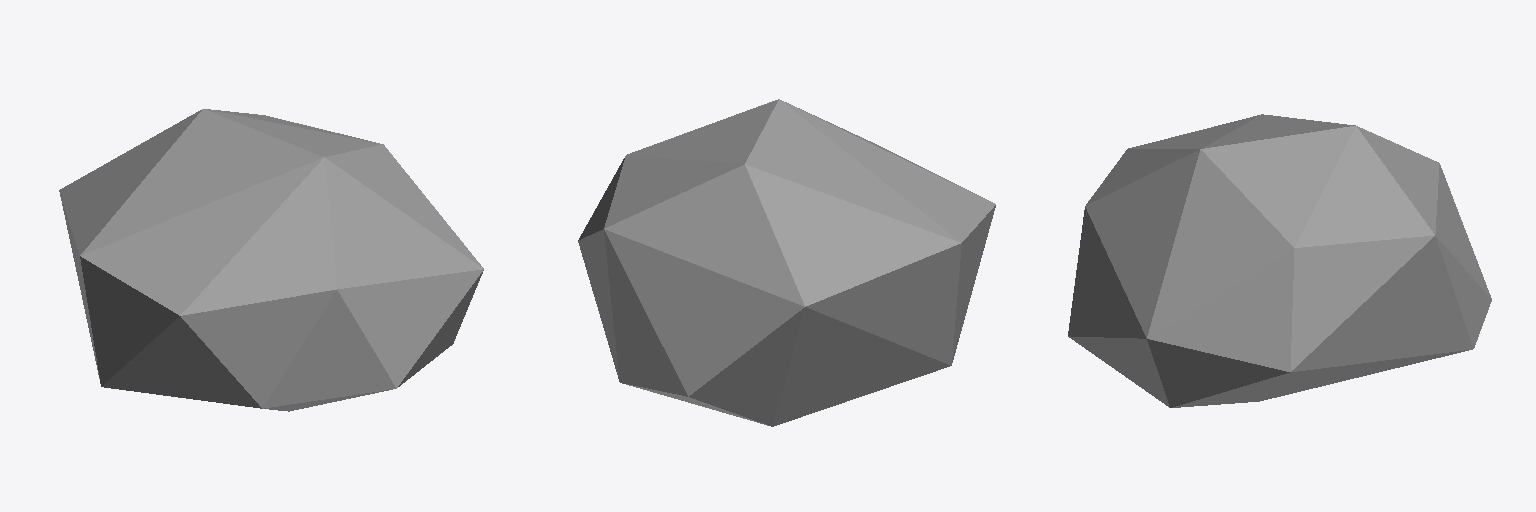
Rendered from Low_Poly_Rock_001.obj.
3 renders of one model, left to right at view 1: azimuth 30°, elevation 25°; view 2: azimuth 150°, elevation 25°; view 3: azimuth 270°, elevation 25°, orthographic.
Parts seen in each view (by area): view 1: Low_Poly_Rock_001_Icosphere; view 2: Low_Poly_Rock_001_Icosphere; view 3: Low_Poly_Rock_001_Icosphere.
Boxes of the visible parts, x1,y1,x2,y2 form: Low_Poly_Rock_001_Icosphere: [59, 109, 483, 411]; Low_Poly_Rock_001_Icosphere: [578, 99, 995, 426]; Low_Poly_Rock_001_Icosphere: [1068, 114, 1491, 407].
Size of the model in its own units: 1.04 by 0.6625 by 1.03.